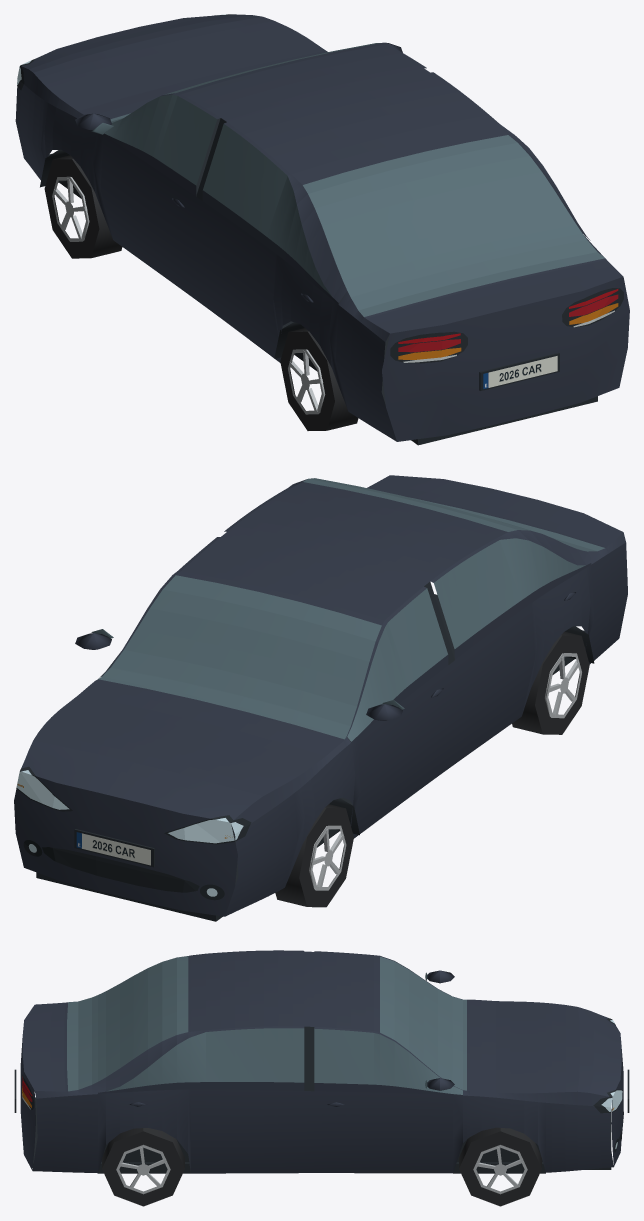
File: Entrega_25_LOD2.glb
3 renders of one model, top to bottom at view 1: azimuth 30°, elevation 25°; view 2: azimuth 150°, elevation 25°; view 3: azimuth 270°, elevation 25°, orthographic. The views are drawn at different scales.
Visible parts, largest first — view 1: Body, Glass, Wheel_FL, Wheel_RL, Plates, BrakeLights; view 2: Body, Glass, Wheel_FL, Wheel_RL, Headlights, Plates; view 3: Body, Glass, Wheel_FR, Wheel_RR.
Part boxes in pixels (<box>): Body: <box>15,14,629,445</box>; Glass: <box>91,43,604,316</box>; Wheel_FL: <box>44,155,122,258</box>; Wheel_RL: <box>280,328,358,430</box>; Plates: <box>483,356,557,389</box>; BrakeLights: <box>398,294,618,352</box>; Body: <box>14,475,627,921</box>; Glass: <box>91,478,604,741</box>; Wheel_FL: <box>275,804,353,907</box>; Wheel_RL: <box>512,631,589,734</box>; Headlights: <box>16,770,243,896</box>; Plates: <box>76,832,150,865</box>; Body: <box>14,950,629,1173</box>; Glass: <box>67,956,466,1094</box>; Wheel_FR: <box>459,1127,541,1206</box>; Wheel_RR: <box>102,1128,184,1206</box>.
Bounding box in the file's own units: 2.18 × 1.47 × 4.74.
10 materials, 1 textured.
